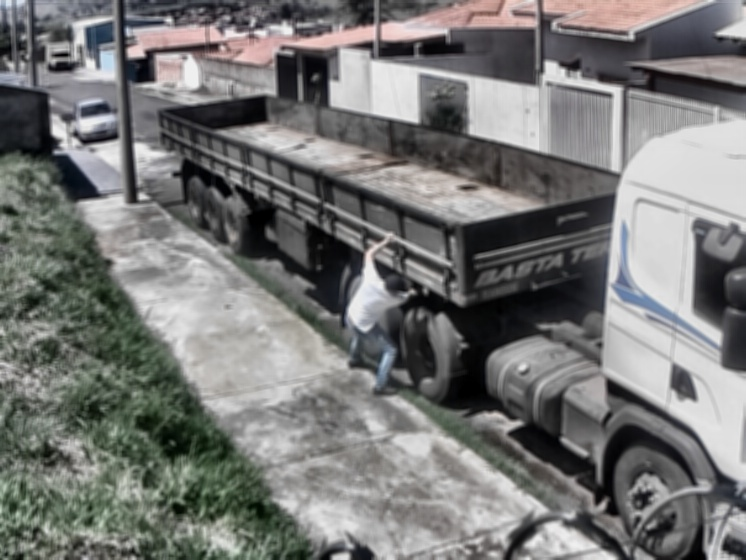person: (342, 228, 421, 401)
